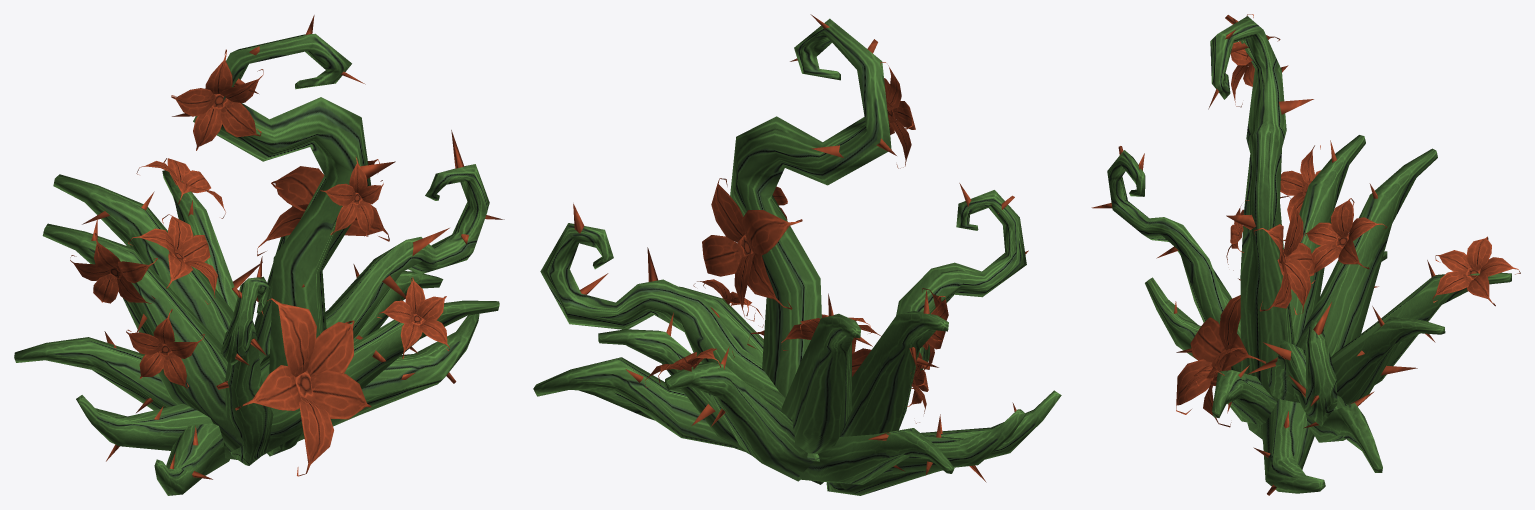
File: flower.glb
The picture shows the model from 3 angles, left to right: view 1: azimuth 30°, elevation 25°; view 2: azimuth 150°, elevation 25°; view 3: azimuth 270°, elevation 25°; orthographic projection. The views are drawn at different scales.
Visible parts, largest first — view 1: node_id46; view 2: node_id46; view 3: node_id46.
Boxes of the visible parts, <box> form: node_id46: <box>14,15,504,495</box>; node_id46: <box>533,14,1061,495</box>; node_id46: <box>1091,14,1520,495</box>.
Bounding box in the file's own units: 0.122 × 0.1152 × 0.1063.
1 material, 1 textured.
